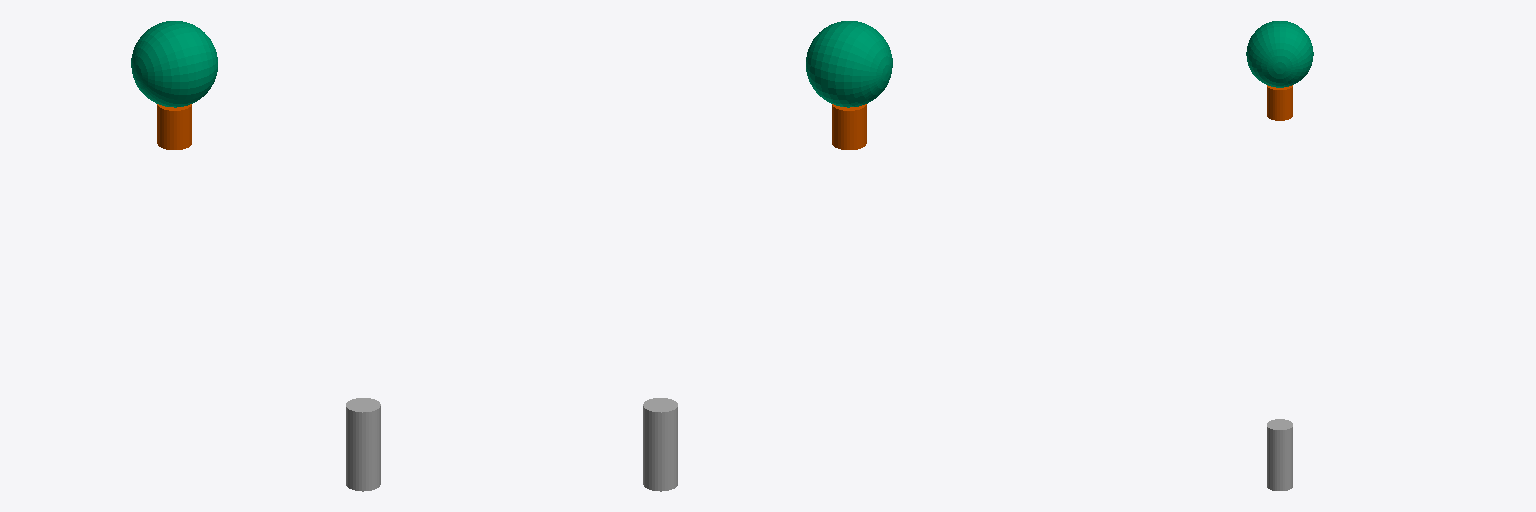
The robot description file, URDF, robot "panda":
<?xml version="1.0" ?>
<!-- =================================================================================== -->
<!-- |    This document was autogenerated by xacro from panda_physical_emulator.urdf.xacro | -->
<!-- |    EDITING THIS FILE BY HAND IS NOT RECOMMENDED                                 | -->
<!-- =================================================================================== -->
<robot name="panda">
  <link name="world"/>
  <link name="panda_link0">
    <inertial>
      <mass value="1.937868"/>
      <origin rpy="0 0 0" xyz="-0.025566 -2.88e-05 0.057332"/>
      <inertia ixx="1" ixy="0" ixz="0" iyy="1" iyz="0" izz="1"/>
    </inertial>
    <visual>
      <origin rpy="0 0 0" xyz="0 0 0"/>
      <geometry>
        <mesh filename="package://franka_description/meshes/visual/link0.dae"/>
      </geometry>
      <material name="">
        <color rgba="1 1 1 1"/>
      </material>
    </visual>
    <collision>
      <origin rpy="0 0 0" xyz="0 0 0"/>
      <geometry>
        <mesh filename="package://franka_description/meshes/collision/link0.stl"/>
      </geometry>
    </collision>
  </link>
  <joint name="robot_to_world" type="fixed">
    <parent link="world"/>
    <child link="panda_link0"/>
    <origin rpy="0.0 0.0 0.0" xyz="0.0 0.0 0.0"/>
  </joint>
  <link name="panda_link1">
    <inertial>
      <mass value="4.970684"/>
      <origin rpy="0 0 0" xyz="3.875e-03 2.081e-03 -0.1750"/>
      <inertia ixx="0.551121276649726" ixy="-9.891702555950000e-05" ixz="0.003401254912500" iyy="0.554308164573063" iyz="0.017358801154300" izz="0.009020836222789"/>
    </inertial>
    <visual>
      <origin rpy="0 0 0" xyz="0 0 0"/>
      <geometry>
        <mesh filename="package://franka_description/meshes/visual/link1.dae"/>
      </geometry>
      <material name="">
        <color rgba="1 1 1 1"/>
      </material>
    </visual>
    <collision>
      <origin rpy="0 0 0" xyz="0 0 0"/>
      <geometry>
        <mesh filename="package://franka_description/meshes/collision/link1.stl"/>
      </geometry>
    </collision>
  </link>
  <joint name="panda_joint1" type="revolute">
    <safety_controller k_position="100.0" k_velocity="40.0" soft_lower_limit="-2.8973" soft_upper_limit="2.8973"/>
    <origin rpy="0 0 0" xyz="0 0 0.333"/>
    <parent link="panda_link0"/>
    <child link="panda_link1"/>
    <axis xyz="0 0 1"/>
    <limit effort="87" lower="-2.8973" upper="2.8973" velocity="2.1750"/>
    <dynamics damping="1.0"/>
  </joint>
  <link name="panda_link2">
    <inertial>
      <origin rpy="0 0 0" xyz="-3.141e-03 -2.872e-02 3.495e-03"/>
      <mass value="0.646926"/>
      <inertia ixx="0.007420488375978" ixy="-0.003866641116064" ixz="0.010246898178992" iyy="0.028095715287805" iyz="6.390638970536000e-04" izz="0.025455008098310"/>
    </inertial>
    <visual>
      <origin rpy="0 0 0" xyz="0 0 0"/>
      <geometry>
        <mesh filename="package://franka_description/meshes/visual/link2.dae"/>
      </geometry>
      <material name="">
        <color rgba="1 1 1 1"/>
      </material>
    </visual>
    <collision>
      <origin rpy="0 0 0" xyz="0 0 0"/>
      <geometry>
        <mesh filename="package://franka_description/meshes/collision/link2.stl"/>
      </geometry>
    </collision>
  </link>
  <joint name="panda_joint2" type="revolute">
    <safety_controller k_position="100.0" k_velocity="40.0" soft_lower_limit="-1.7628" soft_upper_limit="1.7628"/>
    <origin rpy="-1.5707963267948966 0 0" xyz="0 0 0"/>
    <parent link="panda_link1"/>
    <child link="panda_link2"/>
    <axis xyz="0 0 1"/>
    <limit effort="87" lower="-1.7628" upper="1.7628" velocity="2.1750"/>
    <dynamics damping="1.0"/>
  </joint>
  <link name="panda_link3">
    <inertial>
      <origin rpy="0 0 0" xyz="2.7518e-02 3.9252e-02 -6.6502e-02"/>
      <mass value="3.228604"/>
      <inertia ixx="0.017989073985929" ixy="-0.001273666859324" ixz="-0.017304351893438" iyy="0.019431618000394" iyz="-0.021232742878160" izz="0.003410797707480"/>
    </inertial>
    <visual>
      <origin rpy="0 0 0" xyz="0 0 0"/>
      <geometry>
        <mesh filename="package://franka_description/meshes/visual/link3.dae"/>
      </geometry>
      <material name="">
        <color rgba="1 1 1 1"/>
      </material>
    </visual>
    <collision>
      <origin rpy="0 0 0" xyz="0 0 0"/>
      <geometry>
        <mesh filename="package://franka_description/meshes/collision/link3.stl"/>
      </geometry>
    </collision>
  </link>
  <joint name="panda_joint3" type="revolute">
    <safety_controller k_position="100.0" k_velocity="40.0" soft_lower_limit="-2.8973" soft_upper_limit="2.8973"/>
    <origin rpy="1.5707963267948966 0 0" xyz="0 -0.316 0"/>
    <parent link="panda_link2"/>
    <child link="panda_link3"/>
    <axis xyz="0 0 1"/>
    <limit effort="87" lower="-2.8973" upper="2.8973" velocity="2.1750"/>
    <dynamics damping="1.0"/>
  </joint>
  <link name="panda_link4">
    <inertial>
      <origin rpy="0 0 0" xyz="-5.317e-02 1.04419e-01 2.7454e-02"/>
      <mass value="3.587895"/>
      <inertia ixx="-0.015971270250860" ixy="-0.012123843173626" ixz="-0.006569355026276" iyy="0.006704569575549" iyz="0.018926487577369" izz="-0.020940149052540"/>
    </inertial>
    <visual>
      <origin rpy="0 0 0" xyz="0 0 0"/>
      <geometry>
        <mesh filename="package://franka_description/meshes/visual/link4.dae"/>
      </geometry>
      <material name="">
        <color rgba="1 1 1 1"/>
      </material>
    </visual>
    <collision>
      <origin rpy="0 0 0" xyz="0 0 0"/>
      <geometry>
        <mesh filename="package://franka_description/meshes/collision/link4.stl"/>
      </geometry>
    </collision>
  </link>
  <joint name="panda_joint4" type="revolute">
    <safety_controller k_position="100.0" k_velocity="40.0" soft_lower_limit="-3.0718" soft_upper_limit="-0.0698"/>
    <origin rpy="1.5707963267948966 0 0" xyz="0.0825 0 0"/>
    <parent link="panda_link3"/>
    <child link="panda_link4"/>
    <axis xyz="0 0 1"/>
    <limit effort="87" lower="-3.0718" upper="-0.0698" velocity="2.1750"/>
    <dynamics damping="1.0"/>
  </joint>
  <link name="panda_link5">
    <inertial>
      <origin rpy="0 0 0" xyz="-1.1953e-02 4.1065e-02 -3.8437e-02"/>
      <mass value="1.225946"/>
      <inertia ixx="0.031670429041964" ixy="-0.002718755526673" ixz="-0.003473754482437" iyy="0.027487627674740" iyz="-0.001706052052098" izz="0.006384489237171"/>
    </inertial>
    <visual>
      <origin rpy="0 0 0" xyz="0 0 0"/>
      <geometry>
        <mesh filename="package://franka_description/meshes/visual/link5.dae"/>
      </geometry>
      <material name="">
        <color rgba="1 1 1 1"/>
      </material>
    </visual>
    <collision>
      <origin rpy="0 0 0" xyz="0 0 0"/>
      <geometry>
        <mesh filename="package://franka_description/meshes/collision/link5.stl"/>
      </geometry>
    </collision>
  </link>
  <joint name="panda_joint5" type="revolute">
    <safety_controller k_position="100.0" k_velocity="40.0" soft_lower_limit="-2.8973" soft_upper_limit="2.8973"/>
    <origin rpy="-1.5707963267948966 0 0" xyz="-0.0825 0.384 0"/>
    <parent link="panda_link4"/>
    <child link="panda_link5"/>
    <axis xyz="0 0 1"/>
    <limit effort="12" lower="-2.8973" upper="2.8973" velocity="2.6100"/>
    <dynamics damping="1.0"/>
  </joint>
  <link name="panda_link6">
    <inertial>
      <origin rpy="0 0 0" xyz="6.0149e-02 -1.4117e-02 -1.0517e-02"/>
      <mass value="1.666555"/>
      <inertia ixx="0.001447539641829" ixy="-0.001306110902883" ixz="-0.002212241082781" iyy="-0.001859766133107" iyz="5.884309026853950e-04" izz="-9.285602302389487e-04"/>
    </inertial>
    <visual>
      <origin rpy="0 0 0" xyz="0 0 0"/>
      <geometry>
        <mesh filename="package://franka_description/meshes/visual/link6.dae"/>
      </geometry>
      <material name="">
        <color rgba="1 1 1 1"/>
      </material>
    </visual>
    <collision>
      <origin rpy="0 0 0" xyz="0 0 0"/>
      <geometry>
        <mesh filename="package://franka_description/meshes/collision/link6.stl"/>
      </geometry>
    </collision>
  </link>
  <joint name="panda_joint6" type="revolute">
    <safety_controller k_position="100.0" k_velocity="40.0" soft_lower_limit="-0.0175" soft_upper_limit="3.7525"/>
    <origin rpy="1.5707963267948966 0 0" xyz="0 0 0"/>
    <parent link="panda_link5"/>
    <child link="panda_link6"/>
    <axis xyz="0 0 1"/>
    <limit effort="12" lower="-0.0175" upper="3.7525" velocity="2.6100"/>
    <dynamics damping="1.0"/>
  </joint>
  <link name="panda_link7">
    <inertial>
      <origin rpy="0 0 0" xyz="1.0517e-02 -4.252e-03 6.1597e-02"/>
      <mass value="7.35522e-01"/>
      <inertia ixx="0.009711991609050" ixy="-4.608912816842480e-04" ixz="-7.195173382162220e-04" iyy="0.007154935387572" iyz="-9.336408935917680e-04" izz="0.004720348032639"/>
    </inertial>
    <visual>
      <origin rpy="0 0 0" xyz="0 0 0"/>
      <geometry>
        <mesh filename="package://franka_description/meshes/visual/link7.dae"/>
      </geometry>
      <material name="">
        <color rgba="1 1 1 1"/>
      </material>
    </visual>
    <collision>
      <origin rpy="0 0 0" xyz="0 0 0"/>
      <geometry>
        <mesh filename="package://franka_description/meshes/collision/link7.stl"/>
      </geometry>
    </collision>
  </link>
  <joint name="panda_joint7" type="revolute">
    <safety_controller k_position="100.0" k_velocity="40.0" soft_lower_limit="-2.8973" soft_upper_limit="2.8973"/>
    <origin rpy="1.5707963267948966 0 0" xyz="0.088 0 0"/>
    <parent link="panda_link6"/>
    <child link="panda_link7"/>
    <axis xyz="0 0 1"/>
    <limit effort="12" lower="-2.8973" upper="2.8973" velocity="2.6100"/>
    <dynamics damping="1.0"/>
  </joint>
  <link name="panda_link8"/>
  <joint name="panda_joint8" type="fixed">
    <origin rpy="0 0 0" xyz="0 0 0.107"/>
    <parent link="panda_link7"/>
    <child link="panda_link8"/>
  </joint>
  <!-- Load Gazebo lib with desired parameters -->
  <gazebo>
    <plugin filename="libgazebo_ros_control.so" name="gazebo_ros_control"/>
  </gazebo>
  <!-- transmission joint 1 -->
  <transmission name="panda_tran1">
    <type>transmission_interface/SimpleTransmission</type>
    <joint name="panda_joint1">
      <hardwareInterface>hardware_interface/EffortJointInterface</hardwareInterface>
    </joint>
    <actuator name="panda_motor1">
      <hardwareInterface>hardware_interface/EffortJointInterface</hardwareInterface>
      <mechanicalReduction>1</mechanicalReduction>
    </actuator>
  </transmission>
  <!-- transmission joint 2 -->
  <transmission name="panda_tran2">
    <type>transmission_interface/SimpleTransmission</type>
    <joint name="panda_joint2">
      <hardwareInterface>hardware_interface/EffortJointInterface</hardwareInterface>
    </joint>
    <actuator name="panda_motor2">
      <hardwareInterface>hardware_interface/EffortJointInterface</hardwareInterface>
      <mechanicalReduction>1</mechanicalReduction>
    </actuator>
  </transmission>
  <!-- transmission joint 3 -->
  <transmission name="panda_tran3">
    <type>transmission_interface/SimpleTransmission</type>
    <joint name="panda_joint3">
      <hardwareInterface>hardware_interface/EffortJointInterface</hardwareInterface>
    </joint>
    <actuator name="panda_motor3">
      <hardwareInterface>hardware_interface/EffortJointInterface</hardwareInterface>
      <mechanicalReduction>1</mechanicalReduction>
    </actuator>
  </transmission>
  <!-- transmission joint 4 -->
  <transmission name="panda_tran4">
    <type>transmission_interface/SimpleTransmission</type>
    <joint name="panda_joint4">
      <hardwareInterface>hardware_interface/EffortJointInterface</hardwareInterface>
    </joint>
    <actuator name="panda_motor4">
      <hardwareInterface>hardware_interface/EffortJointInterface</hardwareInterface>
      <mechanicalReduction>1</mechanicalReduction>
    </actuator>
  </transmission>
  <!-- transmission joint 5 -->
  <transmission name="panda_tran5">
    <type>transmission_interface/SimpleTransmission</type>
    <joint name="panda_joint5">
      <hardwareInterface>hardware_interface/EffortJointInterface</hardwareInterface>
    </joint>
    <actuator name="panda_motor5">
      <hardwareInterface>hardware_interface/EffortJointInterface</hardwareInterface>
      <mechanicalReduction>1</mechanicalReduction>
    </actuator>
  </transmission>
  <!-- transmission joint 6 -->
  <transmission name="panda_tran6">
    <type>transmission_interface/SimpleTransmission</type>
    <joint name="panda_joint6">
      <hardwareInterface>hardware_interface/EffortJointInterface</hardwareInterface>
    </joint>
    <actuator name="panda_motor6">
      <hardwareInterface>hardware_interface/EffortJointInterface</hardwareInterface>
      <mechanicalReduction>1</mechanicalReduction>
    </actuator>
  </transmission>
  <!-- transmission joint 7 -->
  <transmission name="panda_tran7">
    <type>transmission_interface/SimpleTransmission</type>
    <joint name="panda_joint7">
      <hardwareInterface>hardware_interface/EffortJointInterface</hardwareInterface>
    </joint>
    <actuator name="panda_motor7">
      <hardwareInterface>hardware_interface/EffortJointInterface</hardwareInterface>
      <mechanicalReduction>1</mechanicalReduction>
    </actuator>
  </transmission>
  <!-- link 0 -->
  <gazebo reference="panda_link0">
    <material>Gazebo/Grey</material>
    <mu1>0.2</mu1>
    <mu2>0.2</mu2>
  </gazebo>
  <!-- link/joint 1 -->
  <gazebo reference="panda_link1">
    <material>Gazebo/White</material>
    <mu1>0.2</mu1>
    <mu2>0.2</mu2>
  </gazebo>
  <gazebo reference="panda_joint1">
    <implicitSpringDamper>1</implicitSpringDamper>
    <provideFeedback>true</provideFeedback>
  </gazebo>
  <!-- link/joint 2 -->
  <gazebo reference="panda_link2">
    <material>Gazebo/White</material>
    <mu1>0.2</mu1>
    <mu2>0.2</mu2>
  </gazebo>
  <gazebo reference="panda_joint2">
    <implicitSpringDamper>1</implicitSpringDamper>
    <provideFeedback>true</provideFeedback>
  </gazebo>
  <!-- link/joint 3 -->
  <gazebo reference="panda_link3">
    <material>Gazebo/White</material>
    <mu1>0.2</mu1>
    <mu2>0.2</mu2>
  </gazebo>
  <gazebo reference="panda_joint3">
    <implicitSpringDamper>1</implicitSpringDamper>
    <provideFeedback>true</provideFeedback>
  </gazebo>
  <!-- link/joint 4 -->
  <gazebo reference="panda_link4">
    <material>Gazebo/White</material>
    <mu1>0.2</mu1>
    <mu2>0.2</mu2>
  </gazebo>
  <gazebo reference="panda_joint4">
    <implicitSpringDamper>1</implicitSpringDamper>
    <provideFeedback>true</provideFeedback>
  </gazebo>
  <!-- link/joint 5 -->
  <gazebo reference="panda_link5">
    <material>Gazebo/White</material>
    <mu1>0.2</mu1>
    <mu2>0.2</mu2>
  </gazebo>
  <gazebo reference="panda_joint5">
    <implicitSpringDamper>1</implicitSpringDamper>
    <provideFeedback>true</provideFeedback>
  </gazebo>
  <!-- link/joint 6 -->
  <gazebo reference="panda_link6">
    <material>Gazebo/White</material>
    <mu1>0.2</mu1>
    <mu2>0.2</mu2>
  </gazebo>
  <gazebo reference="panda_joint6">
    <implicitSpringDamper>1</implicitSpringDamper>
    <provideFeedback>true</provideFeedback>
  </gazebo>
  <!-- link/joint 7 -->
  <gazebo reference="panda_link7">
    <material>Gazebo/Grey</material>
    <mu1>0.2</mu1>
    <mu2>0.2</mu2>
  </gazebo>
  <gazebo reference="panda_joint7">
    <implicitSpringDamper>1</implicitSpringDamper>
    <provideFeedback>true</provideFeedback>
  </gazebo>
  <!-- link/joint 8 -->
  <gazebo reference="panda_link8">
    <material>Gazebo/Grey</material>
    <mu1>0.2</mu1>
    <mu2>0.2</mu2>
  </gazebo>
  <gazebo>
    <plugin filename="libfranka_handle.so" name="force_to_handle">
      <bodyName>imagine</bodyName>
      <linkName>handle_link</linkName>
      <topicName>force_torque_data</topicName>
      <updateRate>10</updateRate>
    </plugin>
  </gazebo>
  <link name="ball_link0">
    <inertial>
      <origin rpy="0 0 0" xyz="0 0 0"/>
      <mass value="0.1"/>
      <inertia ixx="0.000025" ixy="0.0" ixz="0.0" iyy="0.000025" iyz="0.0" izz="0.000025"/>
    </inertial>
    <visual>
      <geometry>
        <sphere radius="0.025"/>
      </geometry>
      <origin rpy="0 0 0" xyz="0 0 0"/>
    </visual>
    <collision>
      <geometry>
        <sphere radius="0.025"/>
      </geometry>
      <origin rpy="0 0 0" xyz="0 0 0"/>
    </collision>
  </link>
  <joint name="panda_link8_to_ball" type="fixed">
    <origin rpy="0 0 0" xyz="0 0 0.05"/>
    <parent link="panda_link8"/>
    <child link="ball_link0"/>
    <axis xyz="0 0 0"/>
  </joint>
  <link name="ball_linkx">
    <inertial>
      <mass value="0.1"/>
      <inertia ixx="5.8083e-4" ixy="0" ixz="0" iyy="3.0833e-5" iyz="0" izz="5.9083e-4"/>
    </inertial>
  </link>
  <joint name="ball_jointx" type="revolute">
    <origin rpy="0 0 0" xyz="0 0 0"/>
    <parent link="ball_link0"/>
    <child link="ball_linkx"/>
    <axis xyz="1 0 0"/>
    <limit effort="12" lower="-31.41592653589793" upper="31.41592653589793" velocity="0.500"/>
    <dynamics damping="2"/>
  </joint>
  <link name="ball_linky">
    <inertial>
      <mass value="0.1"/>
      <inertia ixx="5.8083e-4" ixy="0" ixz="0" iyy="3.0833e-5" iyz="0" izz="5.9083e-4"/>
    </inertial>
  </link>
  <joint name="ball_jointy" type="revolute">
    <origin rpy="0 1.5708 0" xyz="0 0 0"/>
    <parent link="ball_linkx"/>
    <child link="ball_linky"/>
    <axis xyz="0 1 0"/>
    <limit effort="12" lower="-31.41592653589793" upper="31.41592653589793" velocity="0.500"/>
    <dynamics damping="2"/>
  </joint>
  <link name="ball_linkz">
    <inertial>
      <origin rpy="0 0 0" xyz="0 0 0.0125"/>
      <mass value="0.1"/>
      <inertia ixx="3.64583e-03" ixy="0.0" ixz="0.0" iyy="3.64583e-03" iyz="0.0" izz="3.125e-03"/>
    </inertial>
    <visual>
      <geometry>
        <cylinder length="0.025" radius="0.01"/>
      </geometry>
      <origin rpy="0 0 0" xyz="0 0 0.0125"/>
    </visual>
    <collision>
      <geometry>
        <cylinder length="0.025" radius="0.01"/>
      </geometry>
      <origin rpy="0 0 0" xyz="0 0 0.0125"/>
    </collision>
  </link>
  <joint name="ball_jointz" type="continuous">
    <origin rpy="0 0 3.141592" xyz="0 0 0.025"/>
    <parent link="ball_linky"/>
    <child link="ball_linkz"/>
    <axis xyz="0 0 1"/>
    <limit effort="12" lower="-31.41592653589793" upper="31.41592653589793" velocity="0.500"/>
    <dynamics damping="2"/>
  </joint>
  <link name="crate">
    <inertial>
      <origin rpy="0 0 0" xyz="0 0 0.1"/>
      <mass value="2"/>
      <inertia ixx="0.007225" ixy="0.0" ixz="0.0" iyy="0.00578125" iyz="0.0" izz="0.00175625"/>
    </inertial>
    <visual>
      <origin rpy="0 0 0" xyz="0 0 0"/>
      <geometry>
        <mesh filename="package://franka_gazebo/models/crate/crate.dae"/>
      </geometry>
      <material name="">
        <color rgba="1 1 1 1"/>
      </material>
    </visual>
    <collision>
      <origin rpy="0 0 0" xyz="0 0 0"/>
      <geometry>
        <mesh filename="package://franka_gazebo/models/crate/crate.stl"/>
      </geometry>
    </collision>
  </link>
  <joint name="ball_linkz_to_crate" type="fixed">
    <origin rpy="0 0 1.5707963267948966" xyz="-0.0 0 0.025"/>
    <!-- -0.125 0.025 -->
    <parent link="ball_linkz"/>
    <child link="crate"/>
    <axis xyz="0 0 0"/>
  </joint>
  <link name="handle_link">
    <inertial>
      <origin rpy="0 0 0" xyz="0 0 0.025"/>
      <mass value="0.1"/>
      <inertia ixx="3.64583e-03" ixy="0.0" ixz="0.0" iyy="3.64583e-03" iyz="0.0" izz="3.125e-03"/>
    </inertial>
    <visual>
      <geometry>
        <cylinder length="0.05" radius="0.01"/>
      </geometry>
      <origin rpy="0 0 0" xyz="0 0 0.025"/>
    </visual>
    <collision>
      <geometry>
        <cylinder length="0.05" radius="0.01"/>
      </geometry>
      <origin rpy="0 0 0" xyz="0 0 0.025"/>
    </collision>
  </link>
  <joint name="crate_to_handle" type="revolute">
    <origin rpy="0 0 0" xyz="0 0.125 0.195"/>
    <parent link="crate"/>
    <child link="handle_link"/>
    <axis xyz="0 0 1"/>
    <limit effort="12" lower="0" upper="0" velocity="0.1"/>
  </joint>
</robot>

--- Facts derived from the render (not from the file) ---
The picture shows the robot from 3 angles, left to right: view 1: azimuth 30°, elevation 25°; view 2: azimuth 150°, elevation 25°; view 3: azimuth 270°, elevation 25°; orthographic projection.
Model panda with 16 links and 15 joints (10 revolute, 1 continuous, 4 fixed), rooted at world, posed all joints at 0 but 1 set to mid-range because 0 is outside their limits (panda_joint4 = -1.57).
Links seen in each view (by area): view 1: ball_link0, handle_link, ball_linkz; view 2: ball_link0, handle_link, ball_linkz; view 3: ball_link0, handle_link, ball_linkz.
Link boxes in pixels (left/top/right/bottom): ball_link0: left=131, top=21, right=217, bottom=107; handle_link: left=346, top=398, right=380, bottom=491; ball_linkz: left=157, top=104, right=191, bottom=149; ball_link0: left=806, top=21, right=892, bottom=107; handle_link: left=643, top=398, right=677, bottom=491; ball_linkz: left=832, top=104, right=866, bottom=149; ball_link0: left=1246, top=21, right=1313, bottom=87; handle_link: left=1267, top=419, right=1292, bottom=490; ball_linkz: left=1267, top=85, right=1292, bottom=120.
Bounding box of the posed robot: 0.16 × 0.05 × 0.32 m (x, y, z).
Meshes: 9 distinct files referenced, 0 mesh visuals loaded (none loaded); not drawn: 9 (reference not matched to a file when rendering).